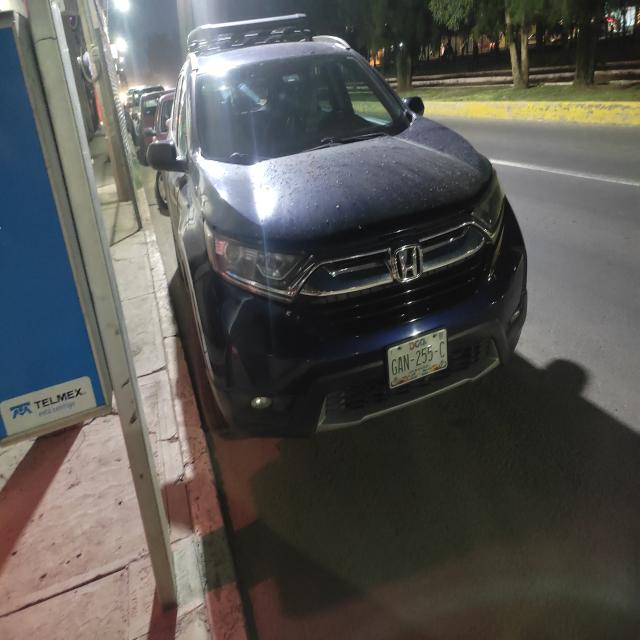Auto: (167, 21, 543, 440)
